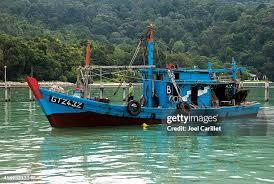fishing boat: (24, 23, 263, 130)
